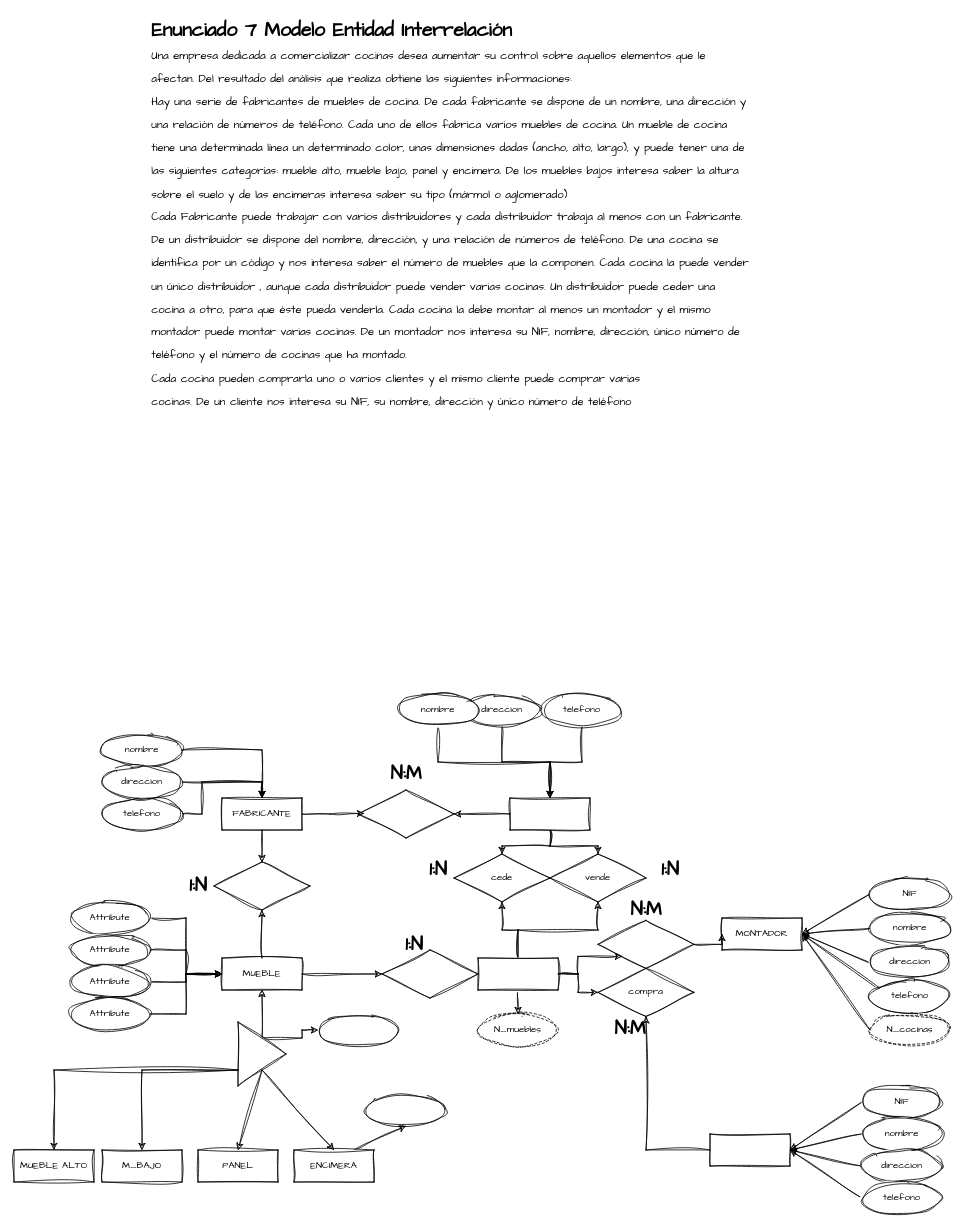
The diagram is 964 pixels wide and 1228 high, and some of its shapes have lost their labels. The centre of each missing label's shape, as x and y in pixels:
"CLIENTE" goes at (x=749, y=1149).
"COCINA" goes at (x=517, y=973).
"Distribuidora" goes at (x=549, y=813).
"fabrica" goes at (x=261, y=885).
"material" goes at (x=405, y=1109).
"monta" goes at (x=645, y=944).
"tipo" goes at (x=357, y=1029).
"trabaja" goes at (x=405, y=813).
